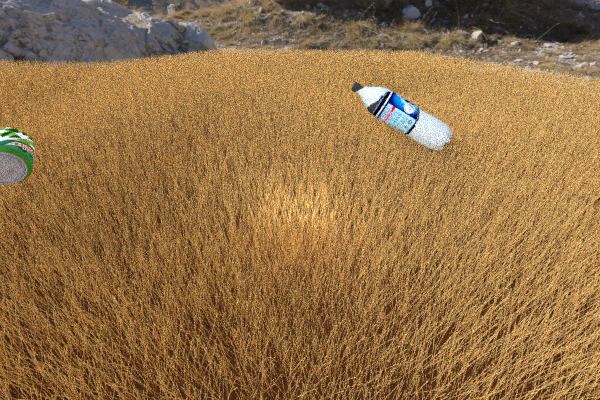Plastic Bottle: (351, 82, 452, 150), (0, 127, 35, 184)
